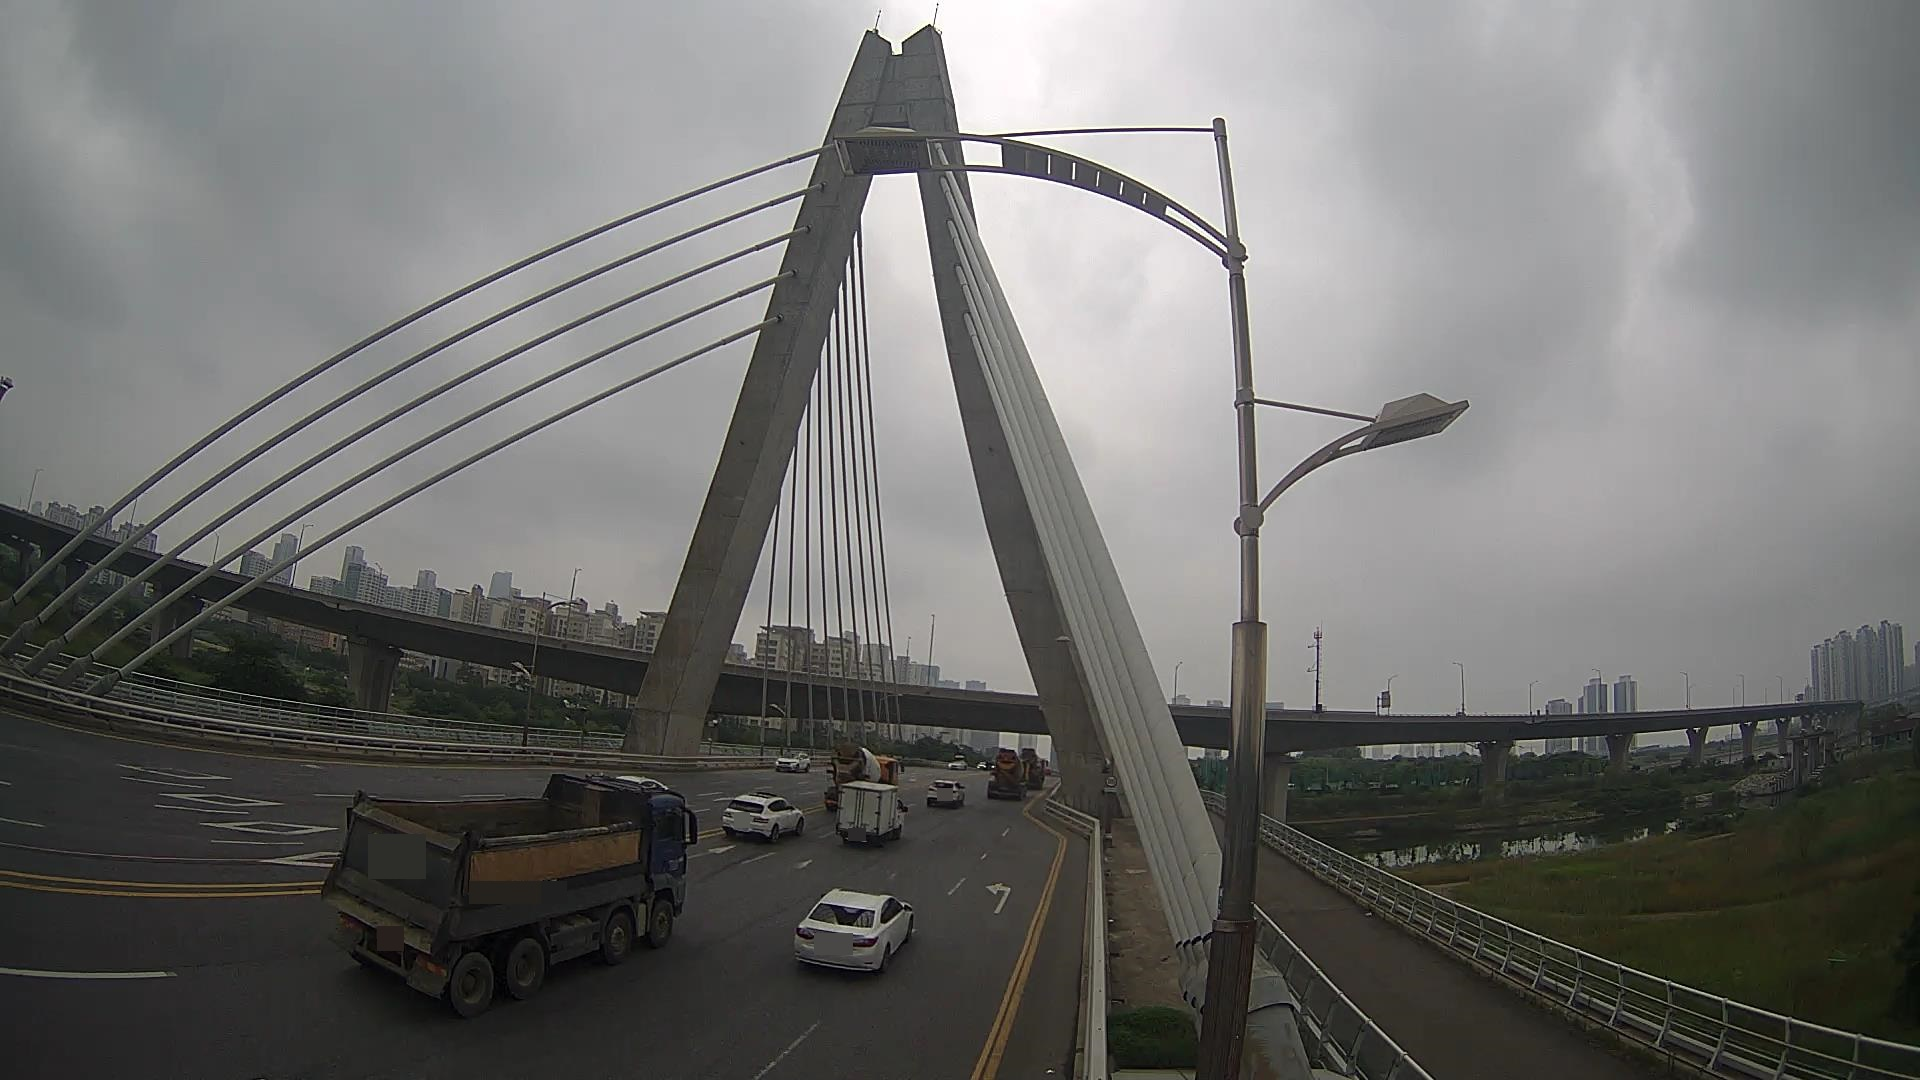정상차량: (320, 773, 698, 1017)
